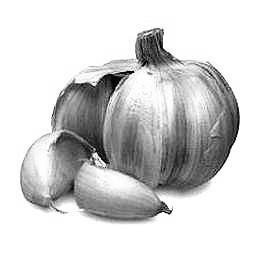bukan telur: (76, 160, 172, 224), (19, 131, 92, 204)
